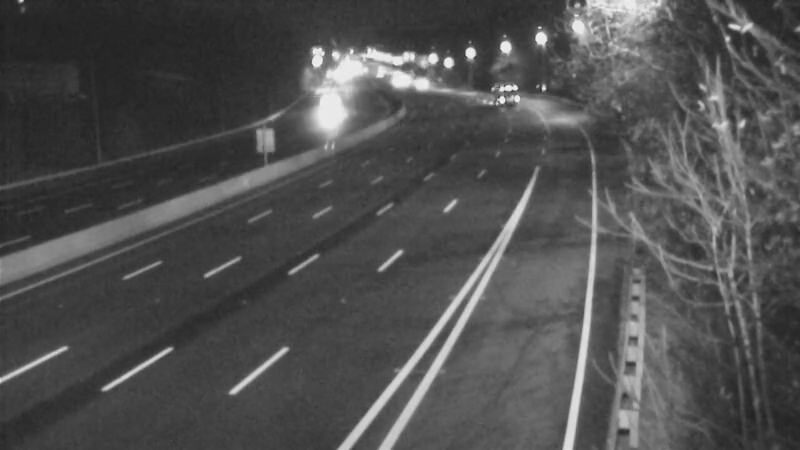vehicle: (477, 68, 527, 118), (300, 92, 350, 142)
